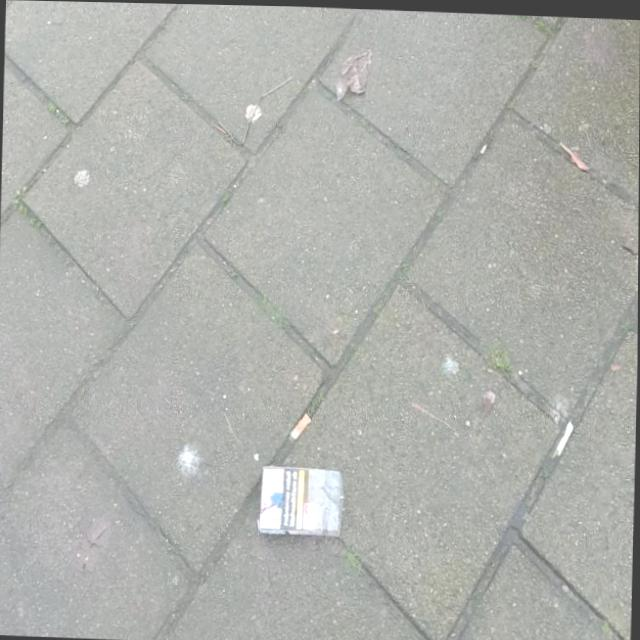Paper: (258, 463, 346, 537)
